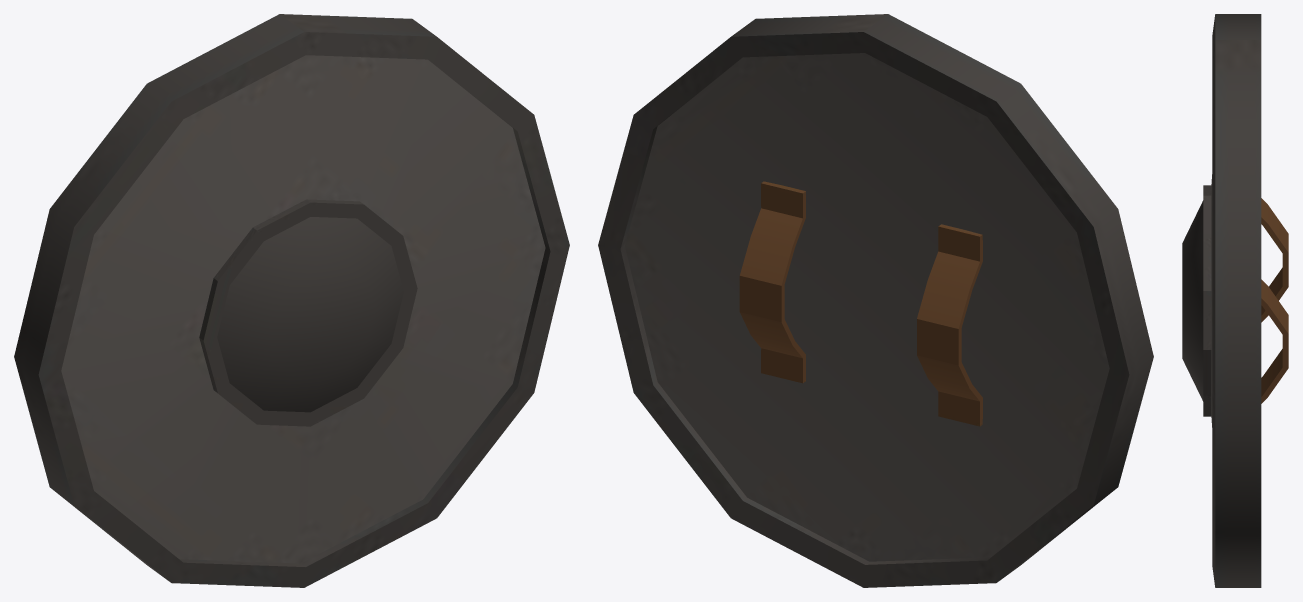
Rendered from Buckler Shield.fbx.
3 views of the same model, side by side, from view 1: azimuth 30°, elevation 25°; view 2: azimuth 150°, elevation 25°; view 3: azimuth 270°, elevation 25° (orthographic). The views are drawn at different scales.
Parts seen in each view (by area): view 1: Buckler Shield_Baked; view 2: Buckler Shield_Baked; view 3: Buckler Shield_Baked.
Part boxes in pixels (bbox=[...]): Buckler Shield_Baked: bbox=[14, 14, 569, 587]; Buckler Shield_Baked: bbox=[598, 14, 1153, 587]; Buckler Shield_Baked: bbox=[1182, 14, 1288, 587].
Bounding box in the file's own units: 36 × 36 × 6.64.
Materials: 1 (1 with a texture image).
